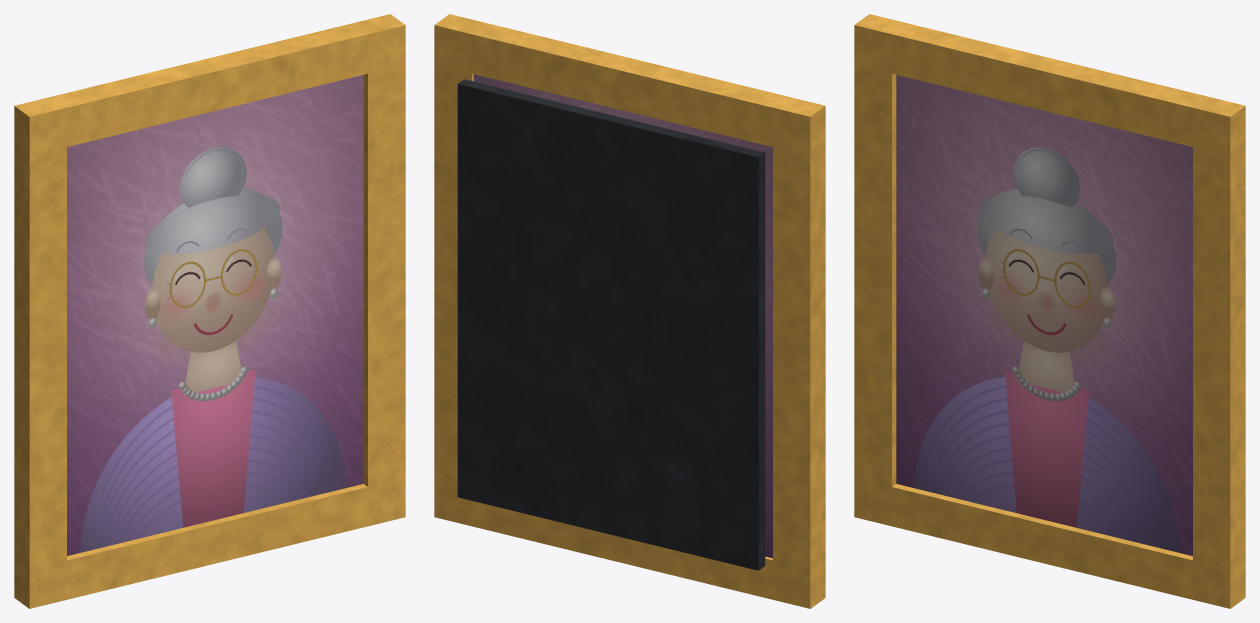
Rendered from dun_pic_granny.glb.
The picture shows the model from 3 angles, left to right: view 1: azimuth 30°, elevation 25°; view 2: azimuth 150°, elevation 25°; view 3: azimuth 330°, elevation 25°; orthographic projection.
Parts seen in each view (by area): view 1: dun_pic_granny_pic_granny_0, dun_pic_granny_gold_0; view 2: dun_pic_granny_slate_0, dun_pic_granny_gold_0, dun_pic_granny_pic_granny_0; view 3: dun_pic_granny_pic_granny_0, dun_pic_granny_gold_0.
Boxes of the visible parts, box(x1,y1,x2,y2) form: dun_pic_granny_pic_granny_0: box(67, 75, 363, 555); dun_pic_granny_gold_0: box(14, 14, 405, 608); dun_pic_granny_slate_0: box(457, 79, 765, 570); dun_pic_granny_gold_0: box(434, 14, 825, 608); dun_pic_granny_pic_granny_0: box(474, 74, 772, 558); dun_pic_granny_pic_granny_0: box(896, 75, 1192, 555); dun_pic_granny_gold_0: box(854, 14, 1245, 608).
Bounding box in the file's own units: 1 × 1.25 × 0.135.
Materials: 3 (3 with a texture image).
